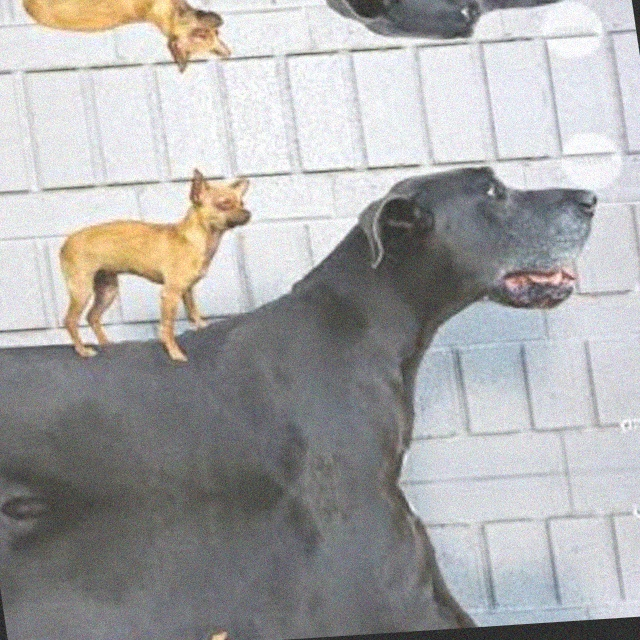dog: (345, 135, 625, 340), (317, 0, 586, 69), (166, 151, 283, 244), (143, 0, 260, 86), (414, 612, 640, 631)
